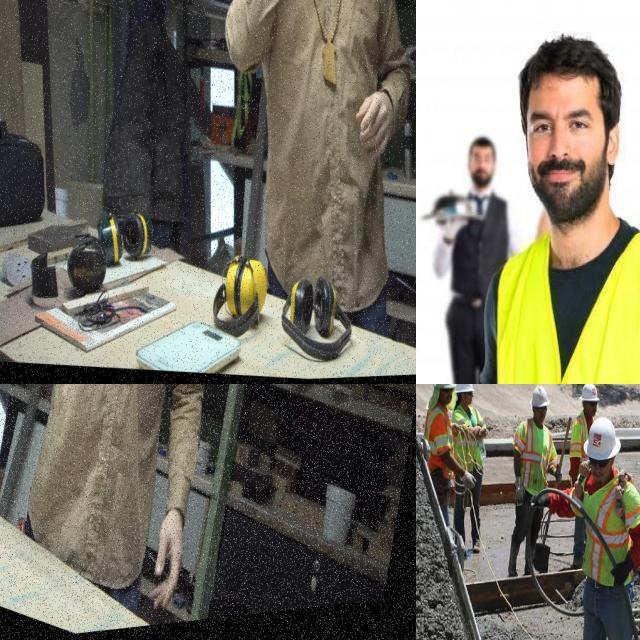No_Glasses: (524, 104, 598, 144)
face_nomask: (516, 109, 601, 207), (468, 155, 495, 188), (588, 461, 616, 485)
hand_glove: (610, 554, 636, 602), (462, 462, 482, 502), (534, 487, 552, 520)
head_helmet: (583, 417, 623, 460), (530, 385, 549, 408), (579, 384, 600, 402), (455, 384, 474, 395), (431, 384, 456, 390)
head_nohelmet: (519, 38, 623, 98), (466, 134, 502, 158)
person: (450, 36, 640, 384), (423, 102, 514, 384), (572, 417, 640, 640), (509, 387, 558, 578), (453, 384, 488, 557), (423, 384, 452, 526), (569, 384, 598, 466)
vest: (482, 224, 640, 384), (581, 480, 640, 594), (514, 427, 556, 500), (450, 405, 487, 479), (424, 407, 457, 479), (571, 414, 591, 461)
